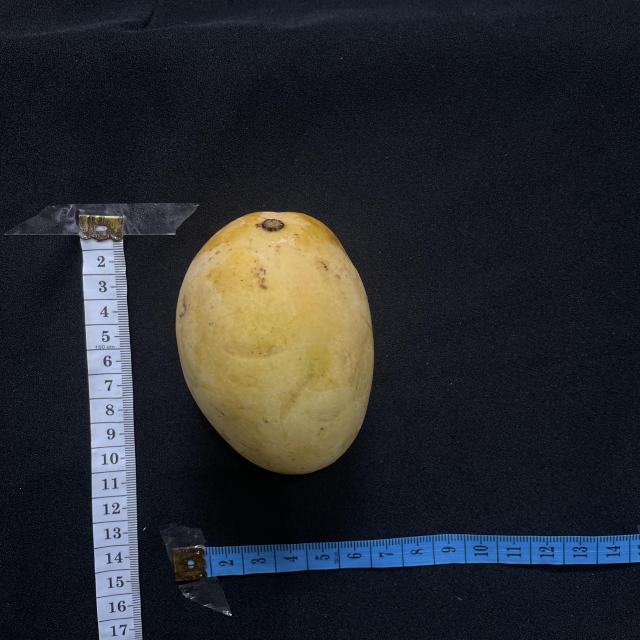Ripe: (176, 212, 374, 474)
